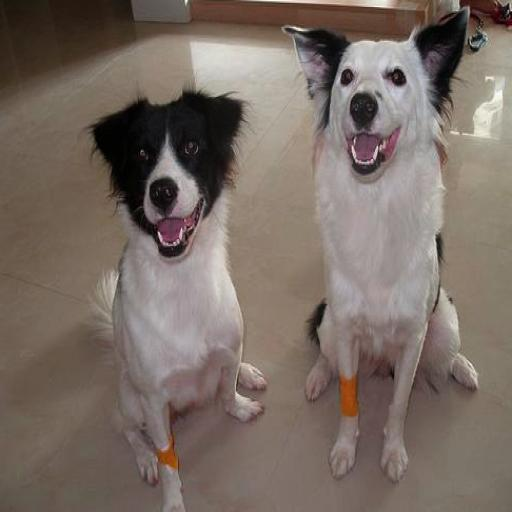dog_face: (280, 7, 475, 172), (88, 89, 241, 264)
